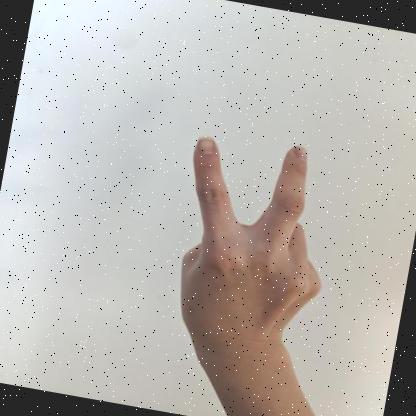V: (180, 135, 321, 359)
